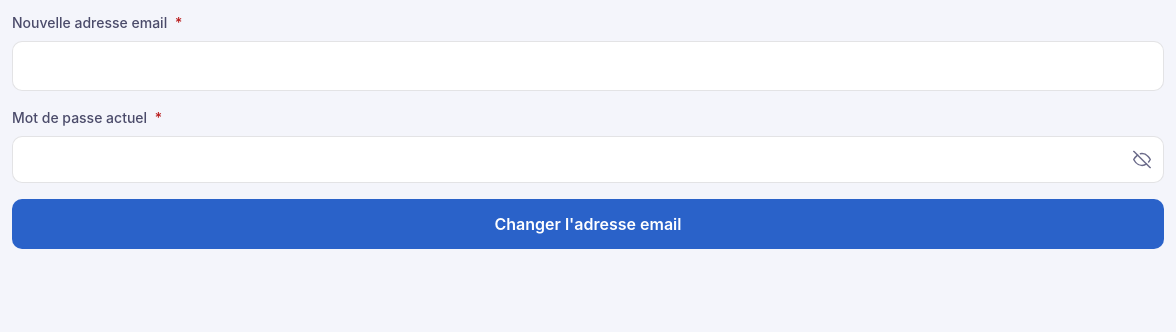
EmailChangeForm › erreur de l'API (mot de passe faux, adresse prise) : affichée, session intacte
Type "bob@example.com" into the field with id "email-new" at (588,66), box x1=12 y1=41 x2=1164 y2=91
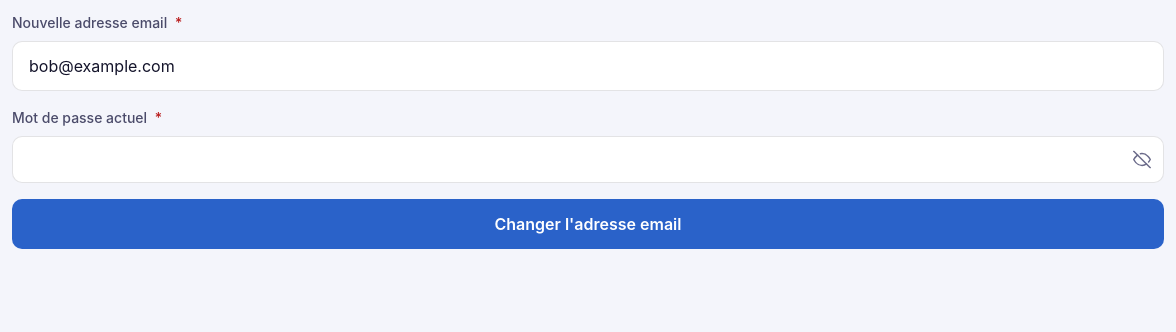
Type "secret" into the password field with id "email-password" at (588,160), box x1=12 y1=136 x2=1164 y2=183
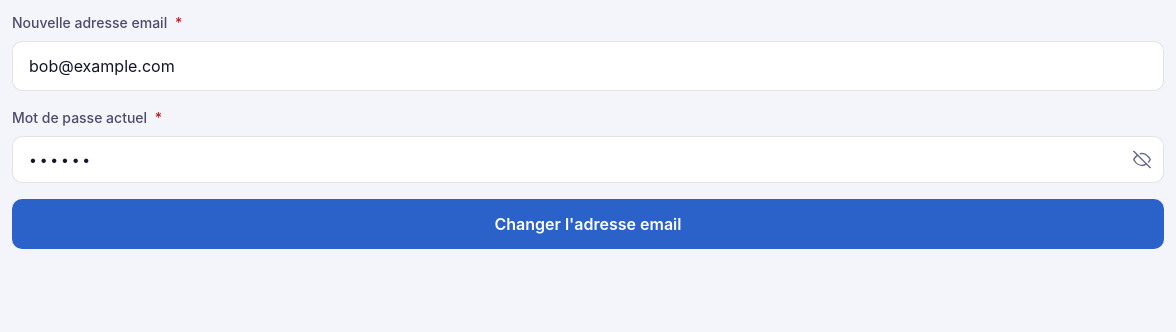
Submit the form
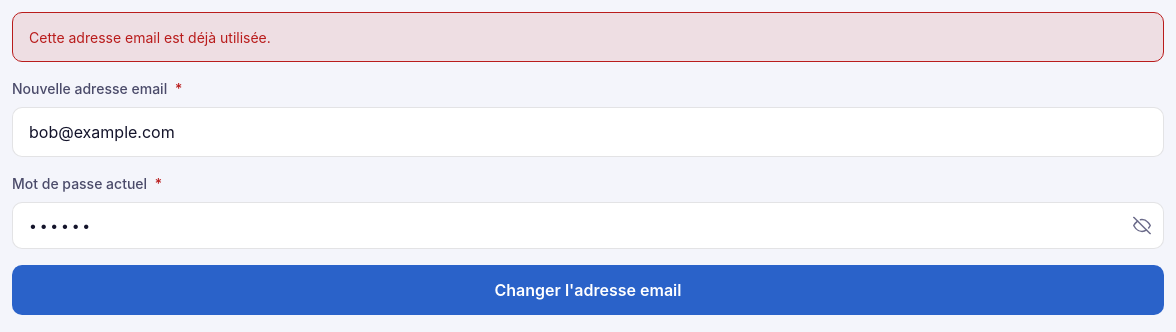
Result: the message "Cette adresse email est déjà utilisée." is shown at x1=12 y1=12 x2=1164 y2=62
